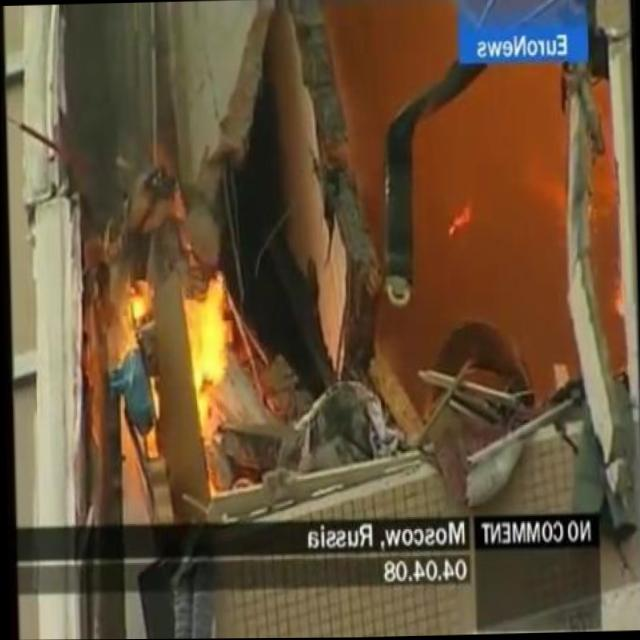fire: (120, 256, 228, 465), (443, 201, 476, 239), (612, 279, 622, 318)
